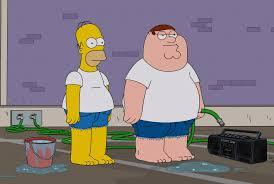Homer: (57, 17, 123, 168)
